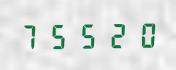five: (46, 20, 73, 50), (74, 20, 101, 49)
seven: (18, 21, 45, 50)
two: (102, 19, 129, 49)
zero: (130, 19, 157, 48)
